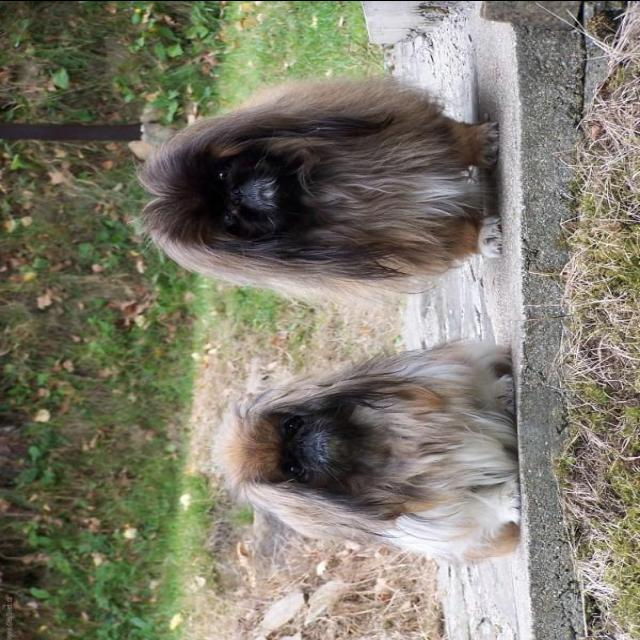pekinese: (137, 70, 503, 302), (212, 336, 520, 565)
